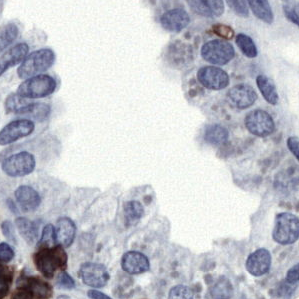Lymphocyte: (33, 241, 70, 275)
